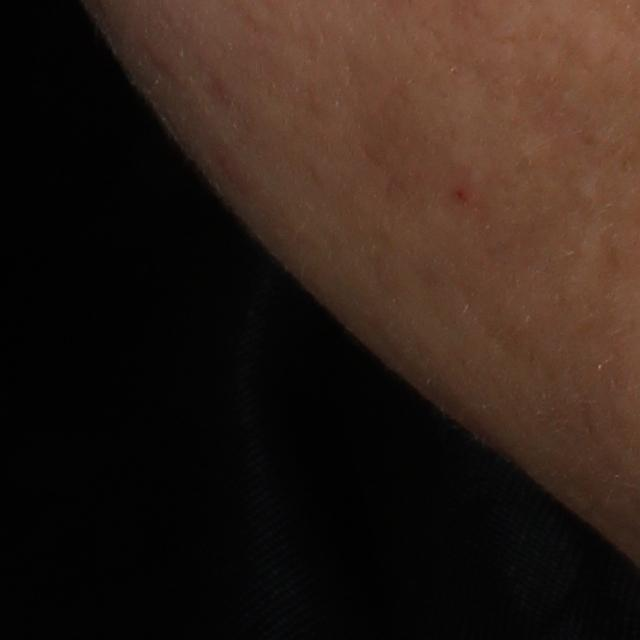hypertrophic_scar: (568, 173, 605, 219)
